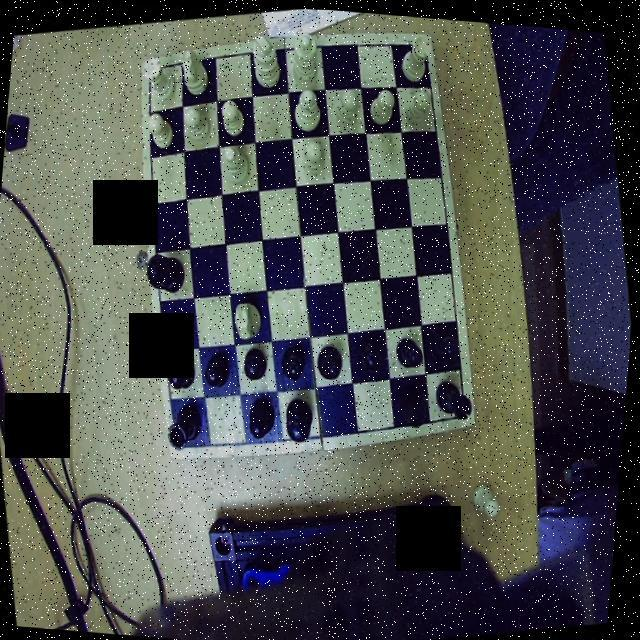chess-table-corners: (170, 428, 198, 458), (451, 400, 477, 428), (414, 30, 436, 61), (142, 56, 166, 82)
